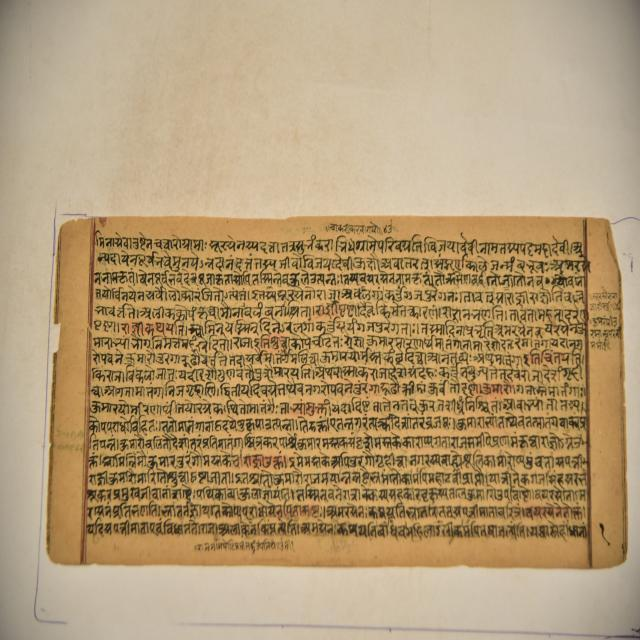text_paragraph: (46, 216, 624, 569)
